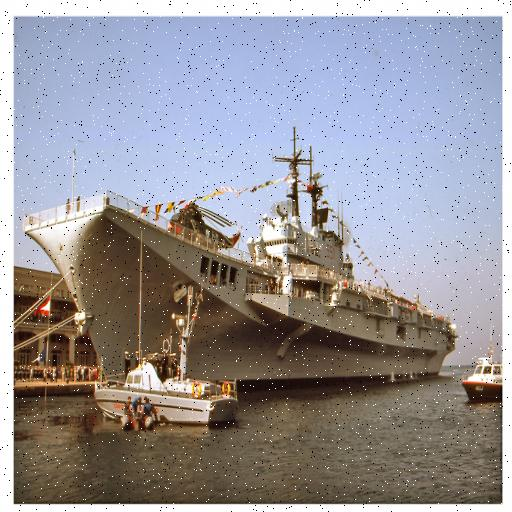Portanaves: (25, 127, 467, 408)
